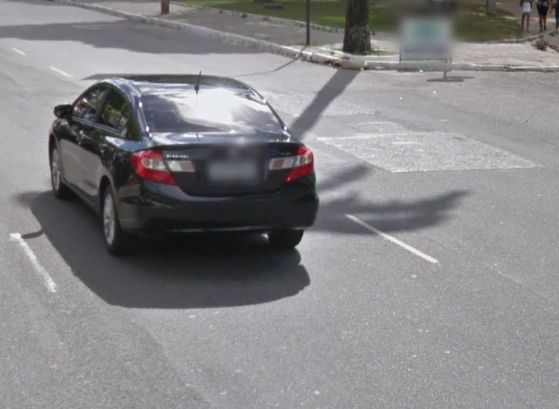car: (42, 66, 319, 267)
